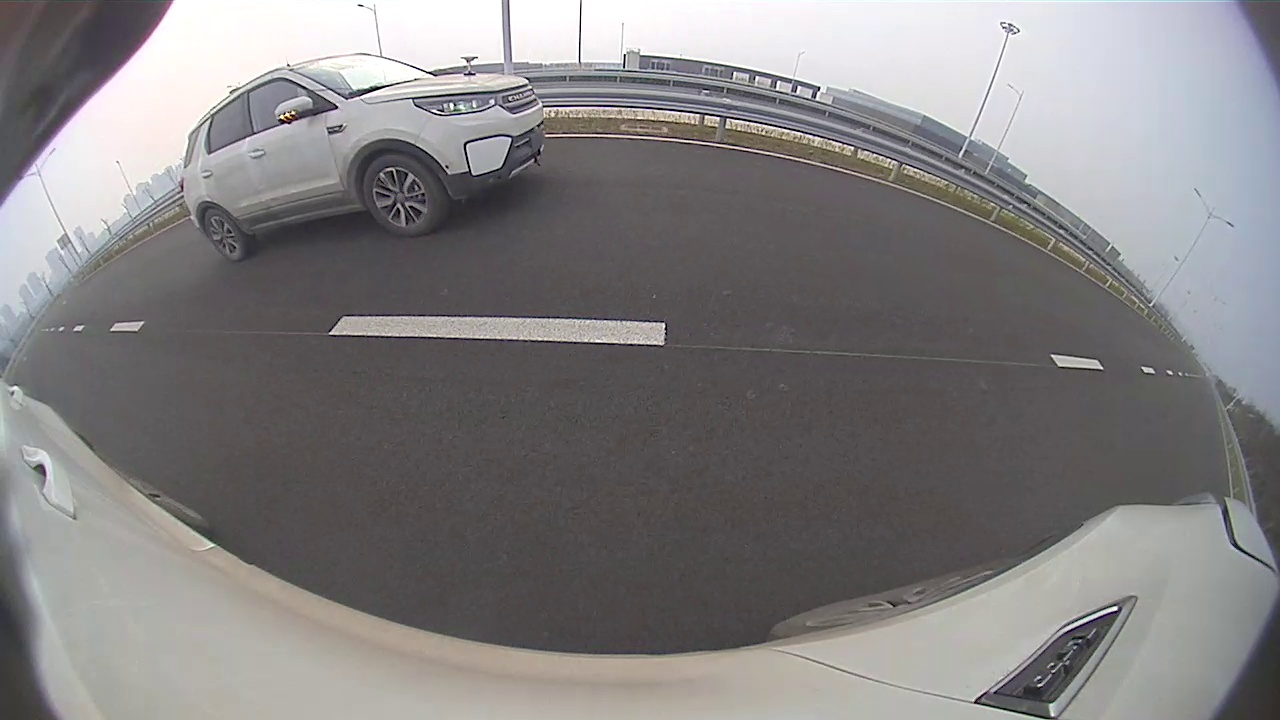car: (180, 53, 545, 263)
front: (363, 153, 443, 240)
rear: (201, 209, 248, 260)
